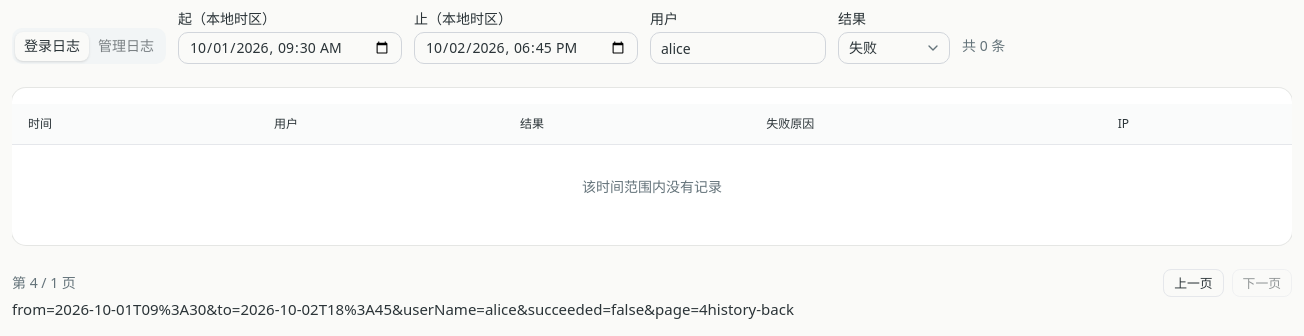
Test case: AuditPage URL filters and states › switches to admin audit filters without dropping date params
The image size is (1304, 336).
Click the tab "管理日志". click: (126, 46)
box: 89,32 -> 163,60
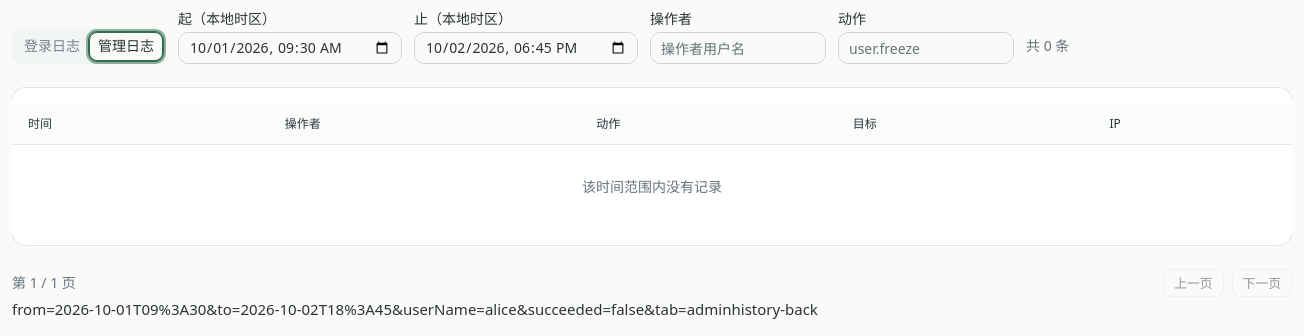
Result: the field labelled "操作者" is shown at 650,32 -> 826,64
